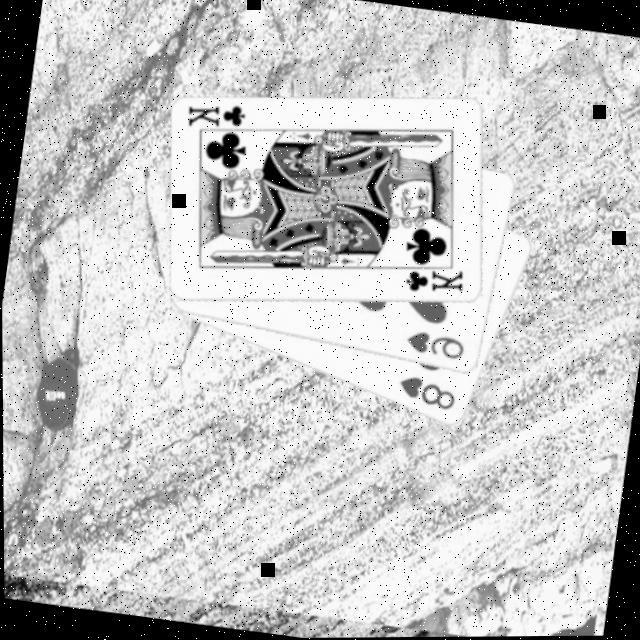8H: (391, 372, 459, 417)
9H: (399, 328, 466, 366)
KC: (180, 96, 257, 144), (392, 256, 466, 303)
